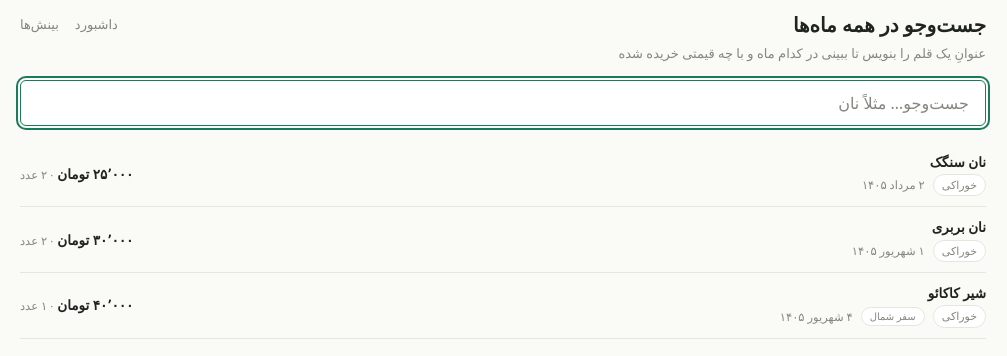
Test: SearchBoard › narrows hits as the user types
The width and height of the screenshot is (1007, 356).
Type "بربری" into the search field named "جست‌وجوی خرج" at [503, 102], box [20,80,986,126]
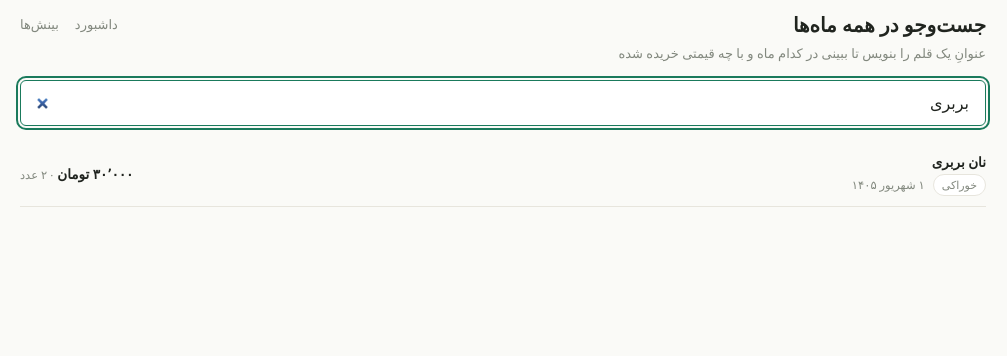
expect the list named "نتایج جست‌وجو" shows "نان بربری": met, box [20,142,986,206]
expect the list named "نتایج جست‌وجو" no longer shows "نان سنگک": met, box [20,142,986,207]
